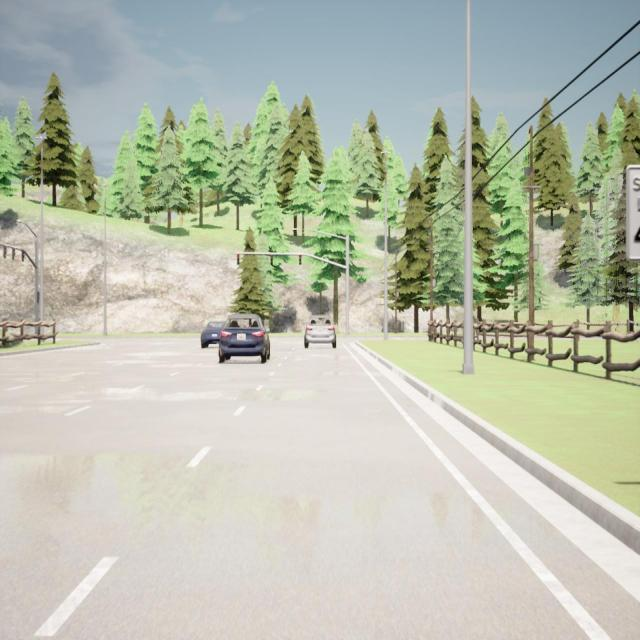Traffic_Signs: (626, 165, 640, 260)
Vehicle: (219, 314, 271, 364), (304, 315, 336, 348), (199, 320, 223, 348)
traffic_light: (12, 248, 15, 259), (4, 246, 6, 258), (22, 250, 24, 262), (37, 292, 39, 303), (237, 254, 239, 264), (271, 255, 272, 265), (300, 255, 301, 265)
